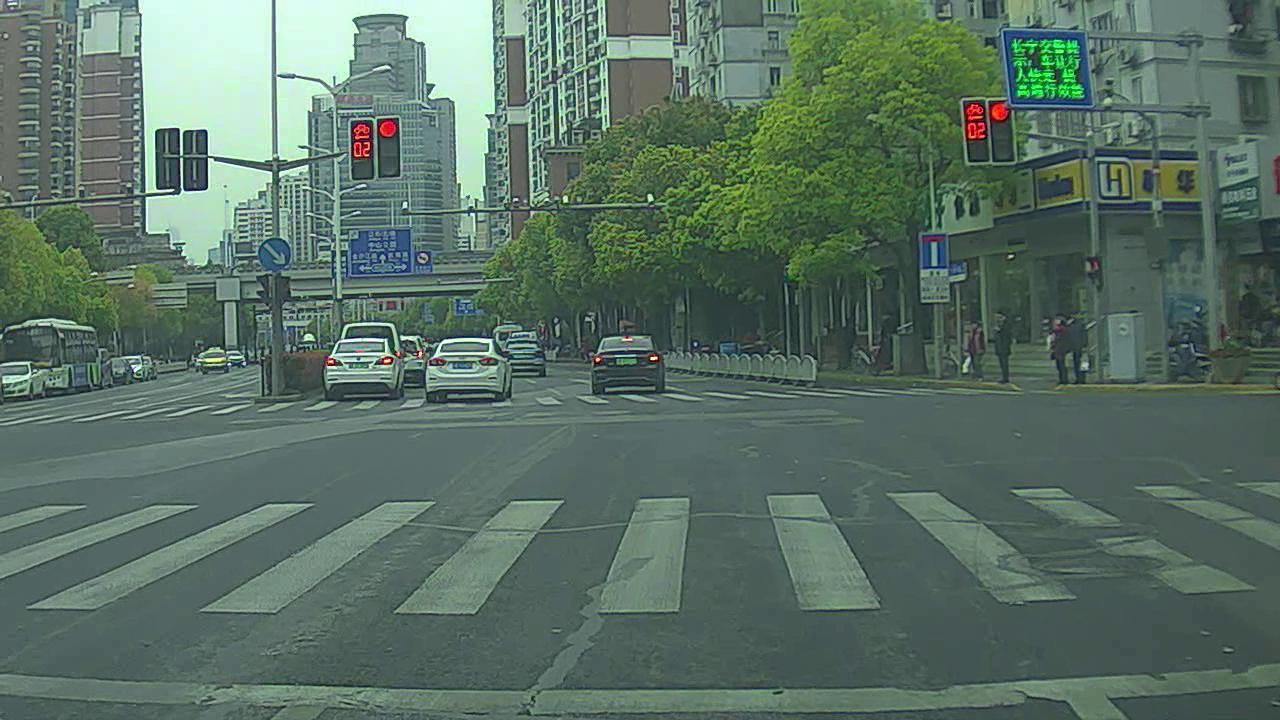traffic_light: (349, 118, 379, 180), (964, 97, 990, 166), (992, 96, 1015, 169), (376, 116, 402, 179)
